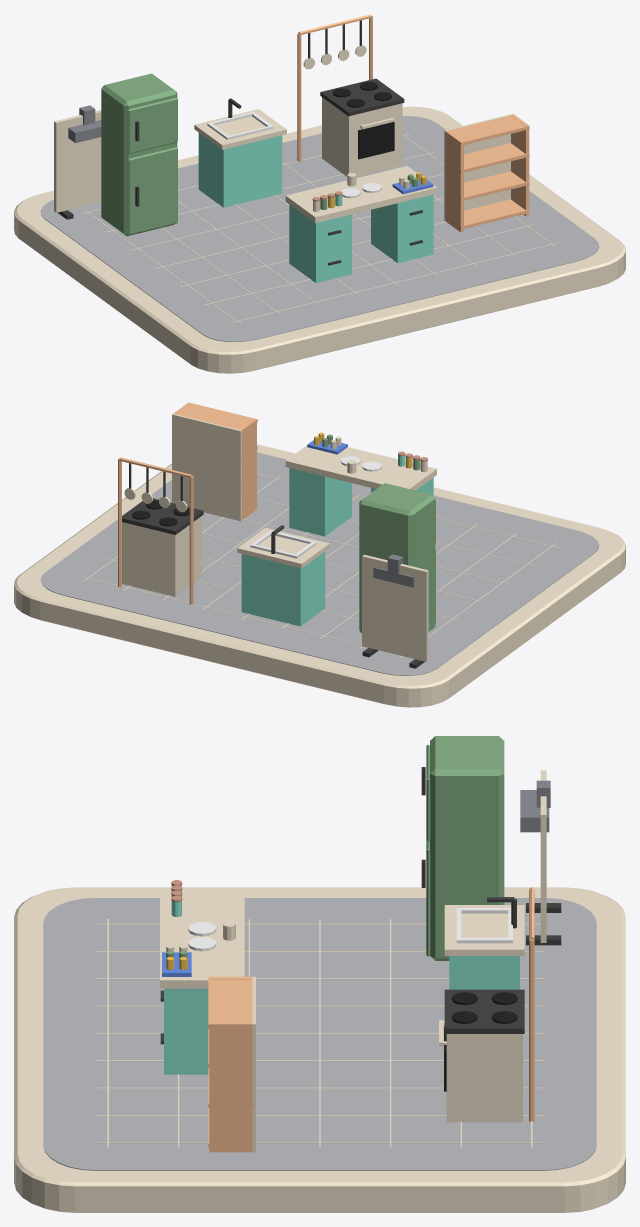
File: room.fbx
3 renders of one model, top to bottom at view 1: azimuth 30°, elevation 25°; view 2: azimuth 150°, elevation 25°; view 3: azimuth 270°, elevation 25°, orthographic. The views are drawn at different scales.
Parts seen in each view (by area): view 1: COM-02 Floor Surface, COM-01 Rounded Base Direct, Cabinet, Cabinet.001, Stove, Door, Panel, Storage module, Storage module.001, Worktop, Door.001, Counter (+11 smaller); view 2: COM-02 Floor Surface, COM-01 Rounded Base Direct, Cabinet, Back, Panel, Cabinet.001, Stove, Worktop, Storage module.001, Counter, Side, Hob (+4 smaller); view 3: COM-02 Floor Surface, COM-01 Rounded Base Direct, Cabinet, Stove, Worktop, Side.001, Storage module.001, Counter, Hob, Cabinet.001, Shelf.003, Panel (+4 smaller).
Boxes of the visible parts, bbox=[...] form: COM-02 Floor Surface: bbox=[40, 116, 599, 341]; COM-01 Rounded Base Direct: bbox=[14, 106, 625, 373]; Cabinet: bbox=[101, 73, 177, 236]; Cabinet.001: bbox=[198, 133, 282, 207]; Stove: bbox=[322, 97, 402, 176]; Door: bbox=[128, 147, 177, 234]; Panel: bbox=[54, 110, 101, 212]; Storage module: bbox=[289, 204, 351, 282]; Storage module.001: bbox=[371, 194, 433, 262]; Worktop: bbox=[285, 166, 436, 223]; Door.001: bbox=[128, 97, 177, 153]; Counter: bbox=[194, 109, 286, 149]; COM-02 Floor Surface: bbox=[40, 452, 599, 675]; COM-01 Rounded Base Direct: bbox=[14, 444, 625, 707]; Cabinet: bbox=[359, 483, 435, 633]; Back: bbox=[172, 413, 241, 521]; Panel: bbox=[362, 554, 428, 661]; Cabinet.001: bbox=[241, 551, 325, 626]; Stove: bbox=[122, 516, 201, 596]; Worktop: bbox=[285, 445, 436, 490]; Storage module.001: bbox=[289, 468, 351, 536]; Counter: bbox=[237, 527, 329, 568]; Side: bbox=[238, 418, 256, 519]; Hob: bbox=[122, 498, 203, 534]; COM-02 Floor Surface: bbox=[43, 898, 596, 1170]; COM-01 Rounded Base Direct: bbox=[14, 887, 625, 1212]; Cabinet: bbox=[430, 736, 504, 960]; Stove: bbox=[446, 1034, 522, 1122]; Worktop: bbox=[160, 895, 244, 988]; Side.001: bbox=[209, 1022, 253, 1152]; Storage module.001: bbox=[164, 988, 208, 1074]; Counter: bbox=[444, 905, 524, 955]; Hob: bbox=[444, 989, 524, 1033]; Cabinet.001: bbox=[449, 956, 519, 989]; Shelf.003: bbox=[208, 976, 255, 1028]; Panel: bbox=[540, 770, 546, 942].
Bounding box in the file's own units: 600 × 210 × 520.
